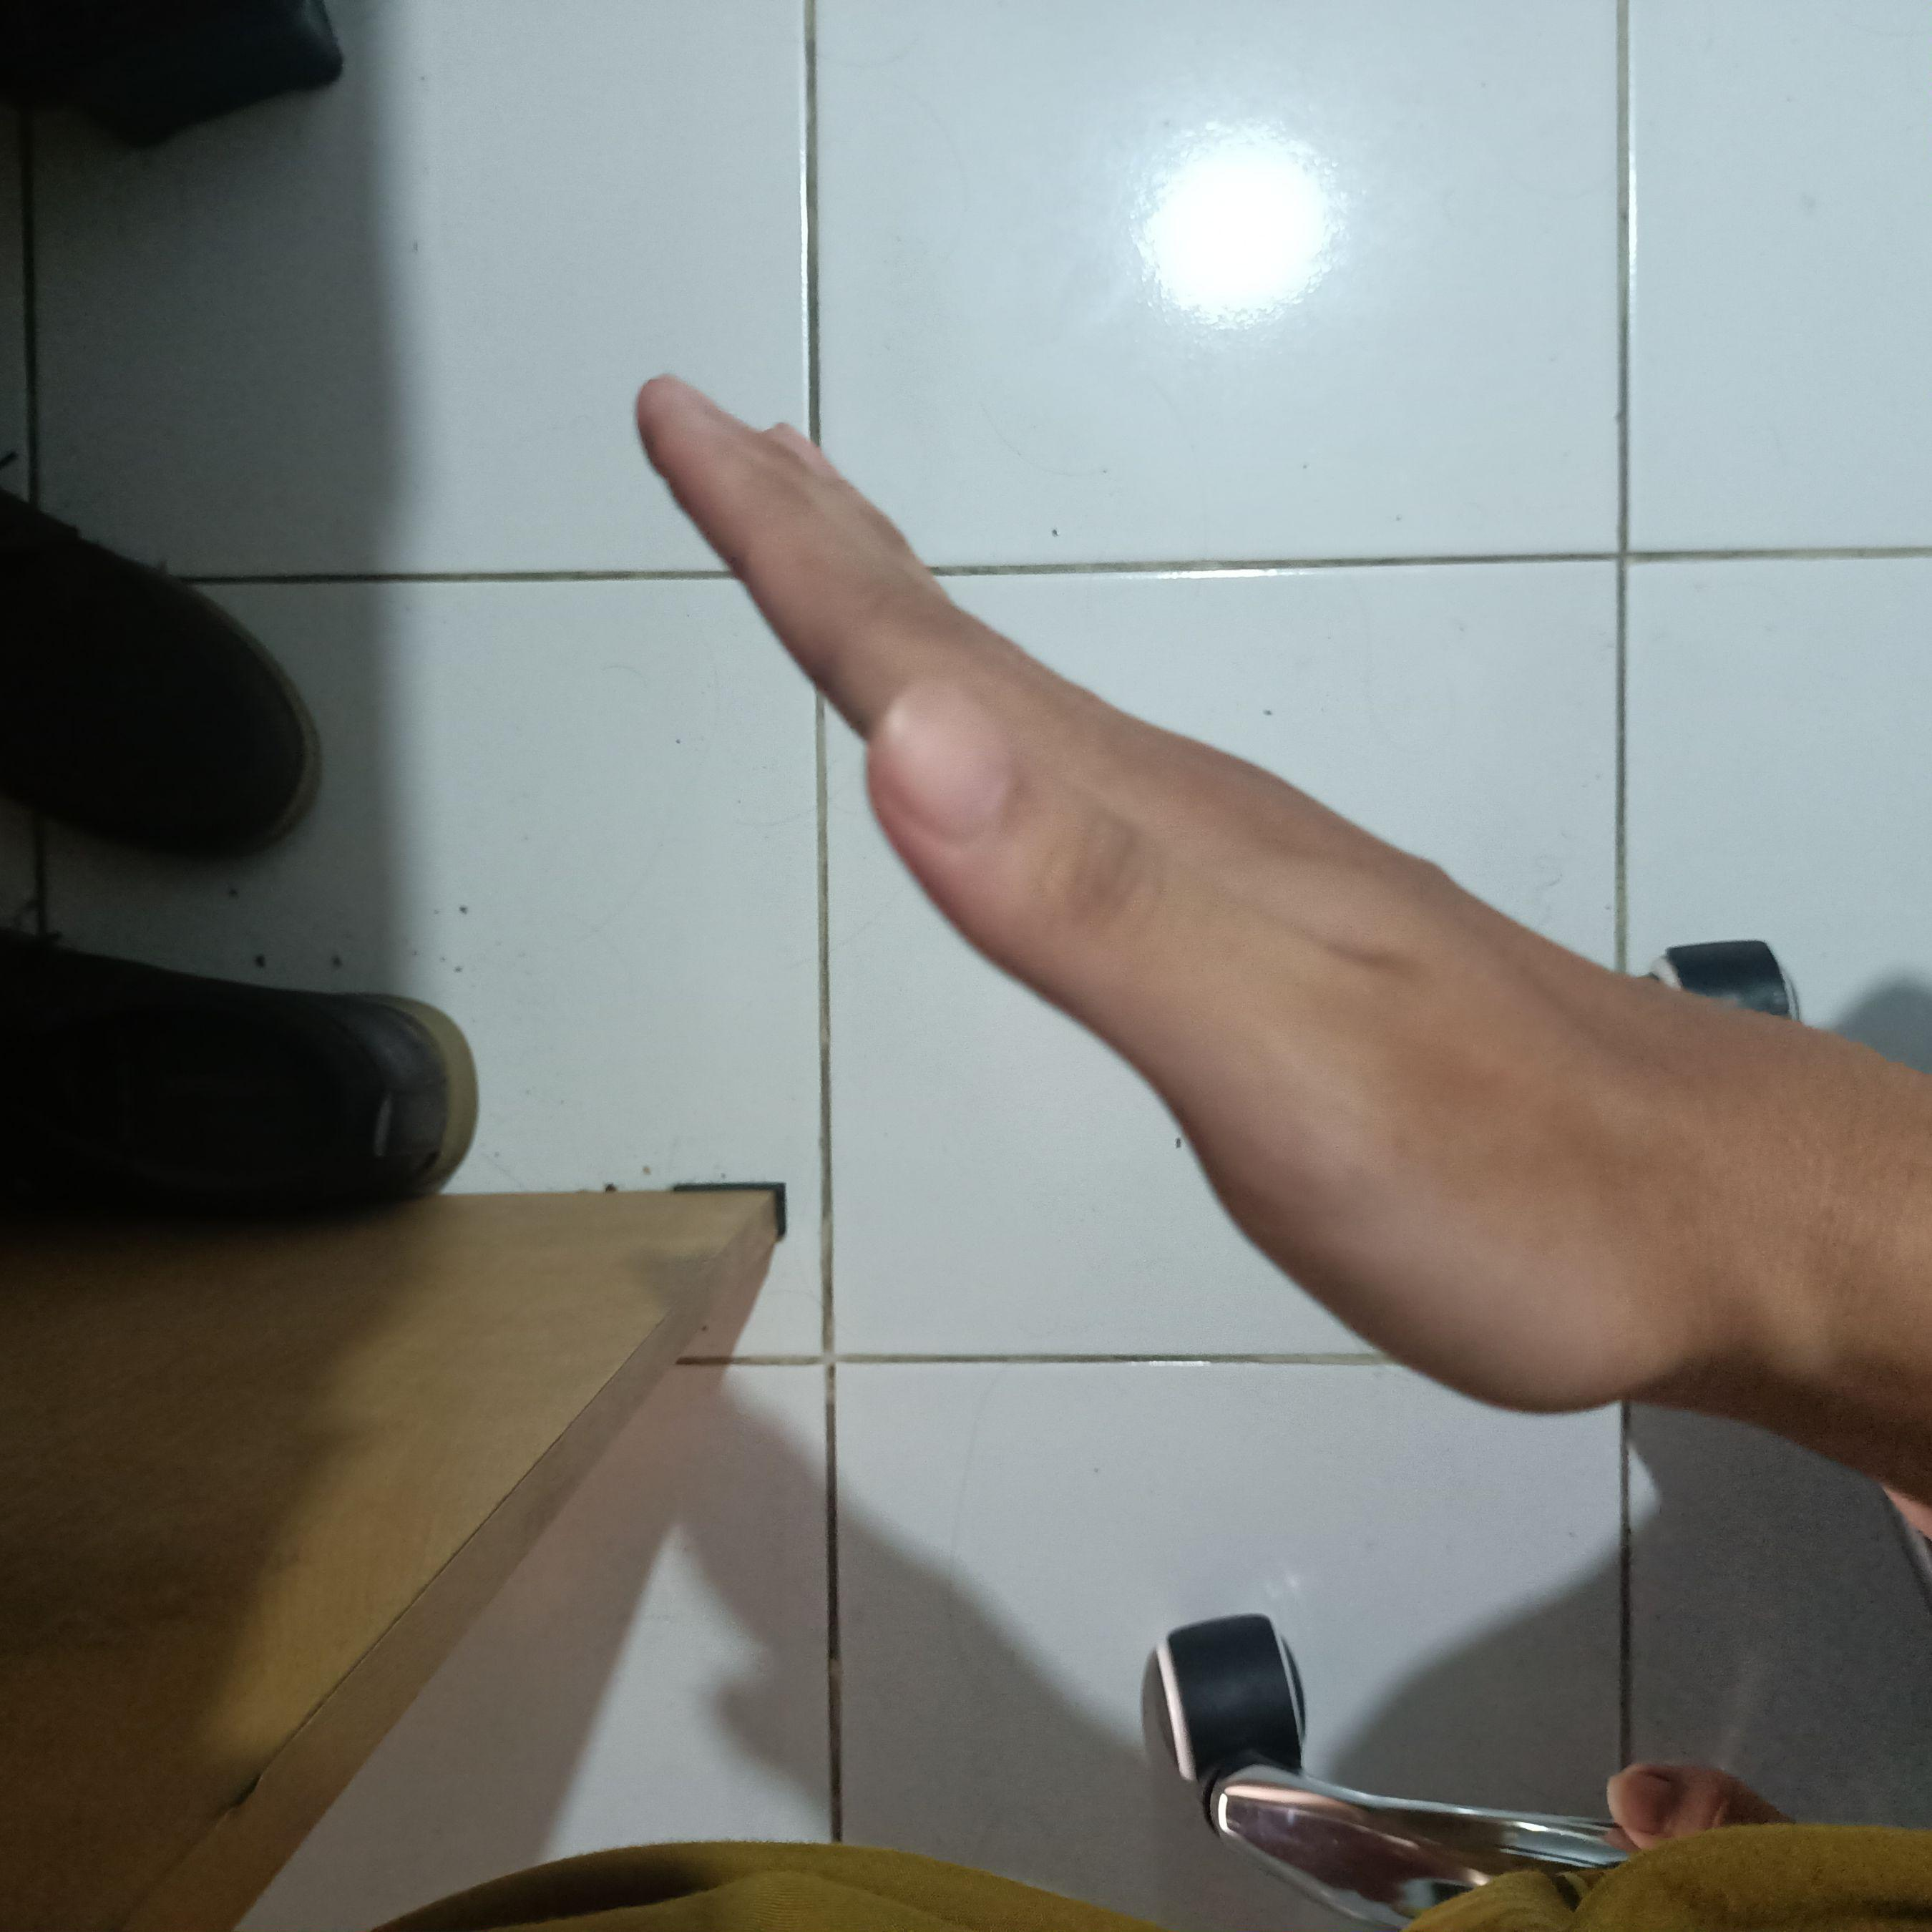paper: (607, 338, 1679, 1421)
